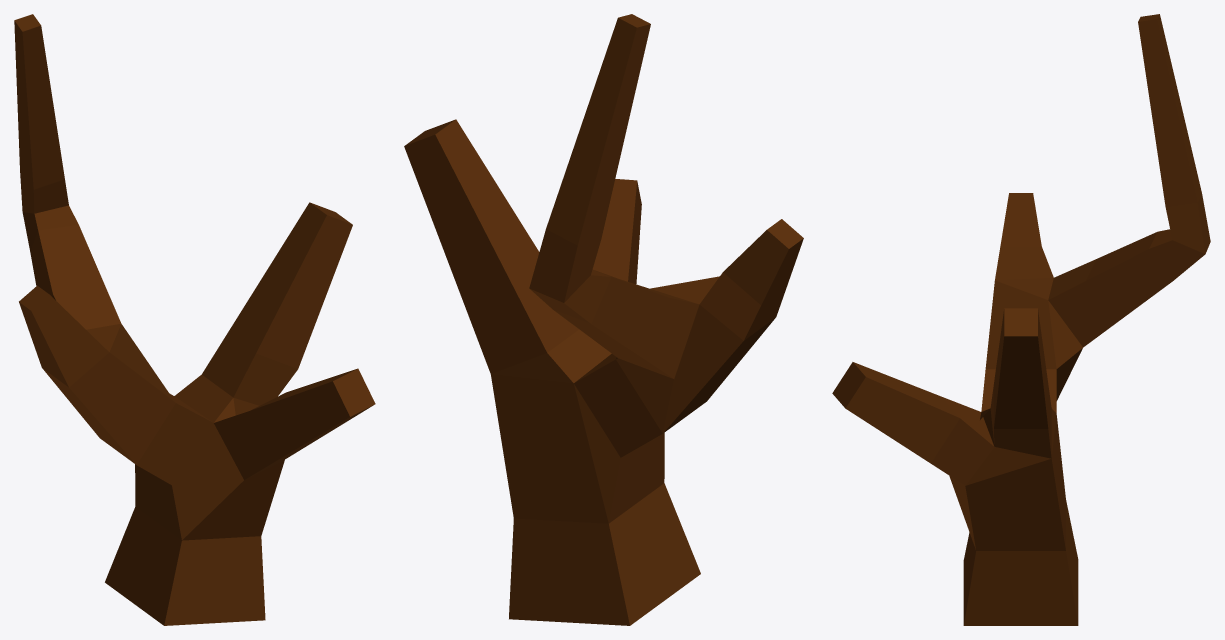
Rendered from Bush_5_tot.fbx.
3 renders of one model, left to right at view 1: azimuth 30°, elevation 25°; view 2: azimuth 150°, elevation 25°; view 3: azimuth 270°, elevation 25°, orthographic. The views are drawn at different scales.
Visible parts, largest first — view 1: Stump; view 2: Stump; view 3: Stump.
Part boxes in pixels (x1=…): Stump: x1=14, y1=14, x2=375, y2=625; Stump: x1=404, y1=14, x2=803, y2=625; Stump: x1=832, y1=14, x2=1210, y2=625.
Bounding box in the file's own units: 47.87 × 80.95 × 50.98.
